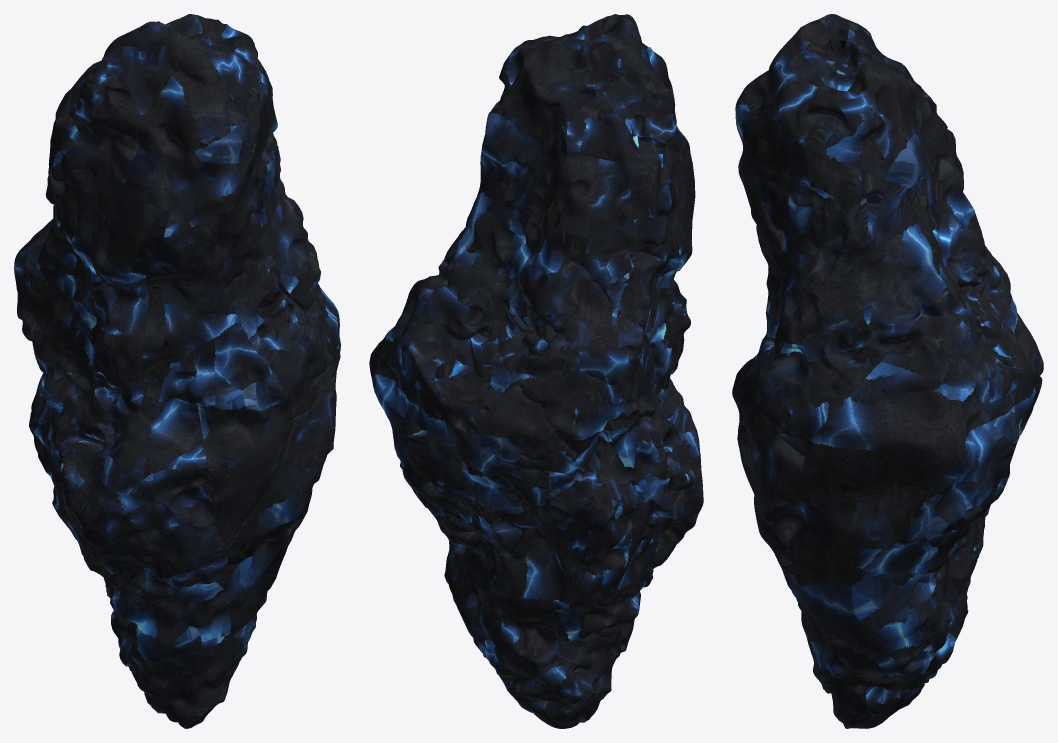
Rendered from shard-05-low.glb.
3 renders of one model, left to right at view 1: azimuth 30°, elevation 25°; view 2: azimuth 150°, elevation 25°; view 3: azimuth 270°, elevation 25°, orthographic. The views are drawn at different scales.
Visible parts, largest first — view 1: Mesh_0; view 2: Mesh_0; view 3: Mesh_0.
Boxes of the visible parts, bbox=[...] form: Mesh_0: bbox=[14, 14, 340, 728]; Mesh_0: bbox=[369, 14, 703, 728]; Mesh_0: bbox=[732, 14, 1043, 728].
Bounding box in the file's own units: 0.7924 × 1.9 × 0.775.
Materials: 1 (1 with a texture image).
